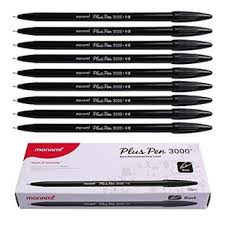qillqana: (7, 8, 220, 23), (9, 121, 216, 136), (12, 53, 213, 66), (8, 107, 215, 119), (10, 80, 213, 92)
